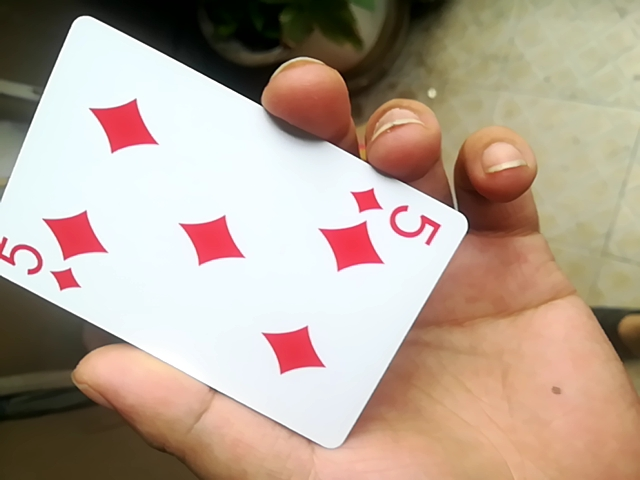fk 5: (0, 17, 473, 453)
